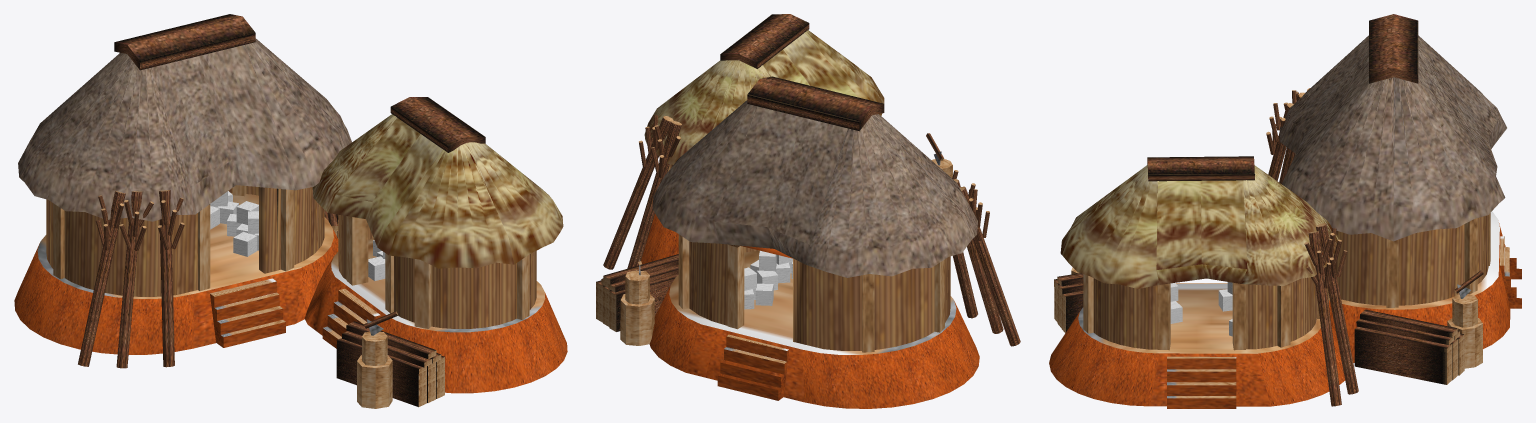
Rendered from storehouse_2.dae.
The picture shows the model from 3 angles, left to right: view 1: azimuth 30°, elevation 25°; view 2: azimuth 150°, elevation 25°; view 3: azimuth 270°, elevation 25°; orthographic projection. The views are drawn at different scales.
Parts seen in each view (by area): view 1: storehouse_2; view 2: storehouse_2; view 3: storehouse_2.
Boxes of the visible parts, left/top/right/bottom form: storehouse_2: left=14, top=14, right=567, bottom=408; storehouse_2: left=596, top=14, right=1020, bottom=408; storehouse_2: left=1049, top=14, right=1521, bottom=408.
Bounding box in the file's own units: 14.85 × 15.58 × 9.2.
